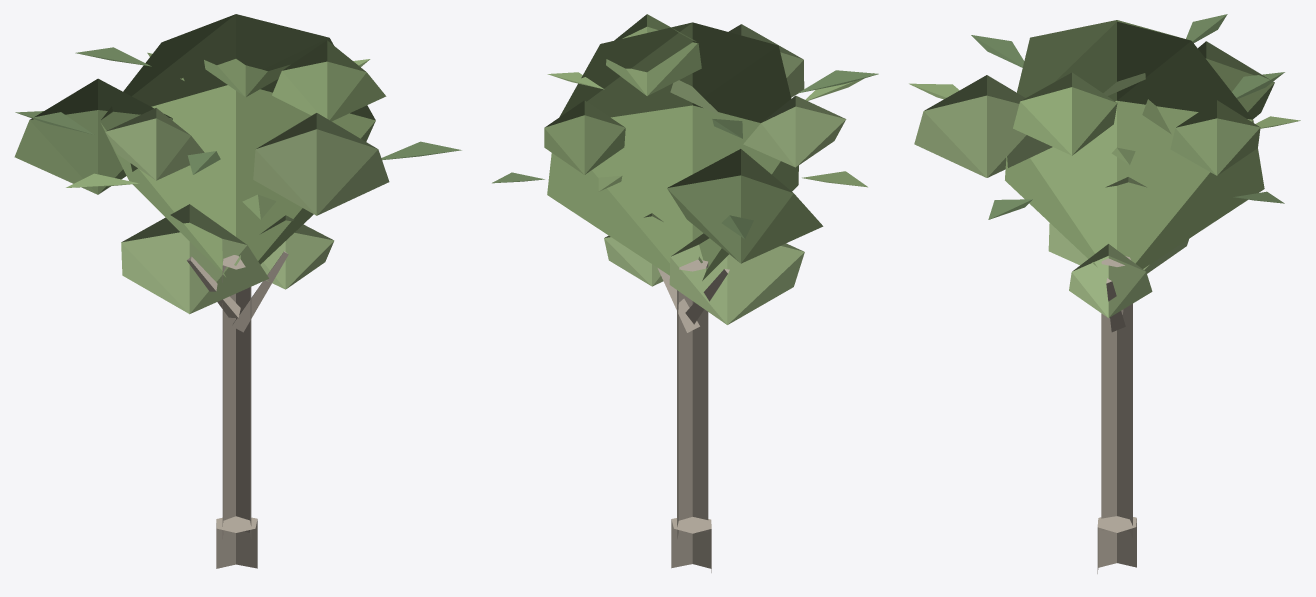
Rendered from shu.chuizhi__summer.glb.
3 views of the same model, side by side, from view 1: azimuth 30°, elevation 25°; view 2: azimuth 150°, elevation 25°; view 3: azimuth 270°, elevation 25° (orthographic).
Visible parts, largest first — view 1: shu.chuizhi__summer; view 2: shu.chuizhi__summer; view 3: shu.chuizhi__summer.
Part boxes in pixels (bbox=[...]): shu.chuizhi__summer: bbox=[14, 14, 461, 568]; shu.chuizhi__summer: bbox=[492, 14, 878, 572]; shu.chuizhi__summer: bbox=[909, 14, 1300, 573].
Bounding box in the file's own units: 6.6 × 10.27 × 6.62.
